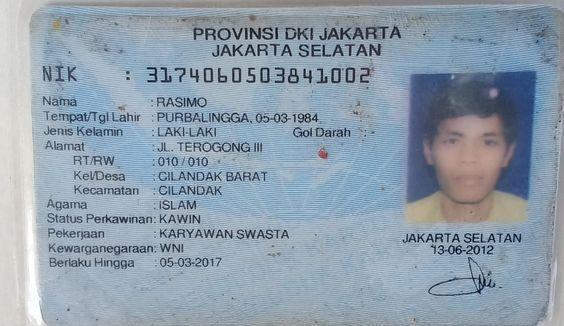ID-card: (31, 8, 562, 315)
